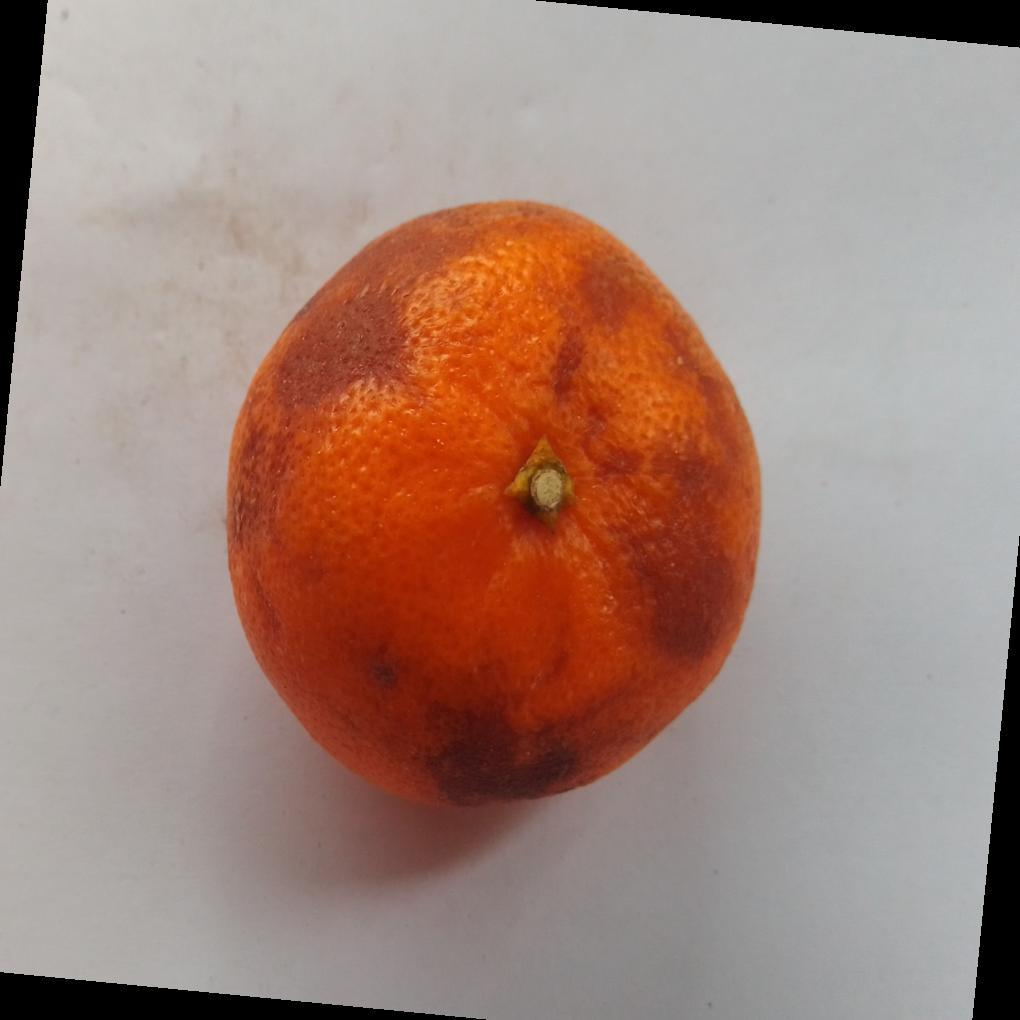FreshOrange: (225, 201, 763, 815)
